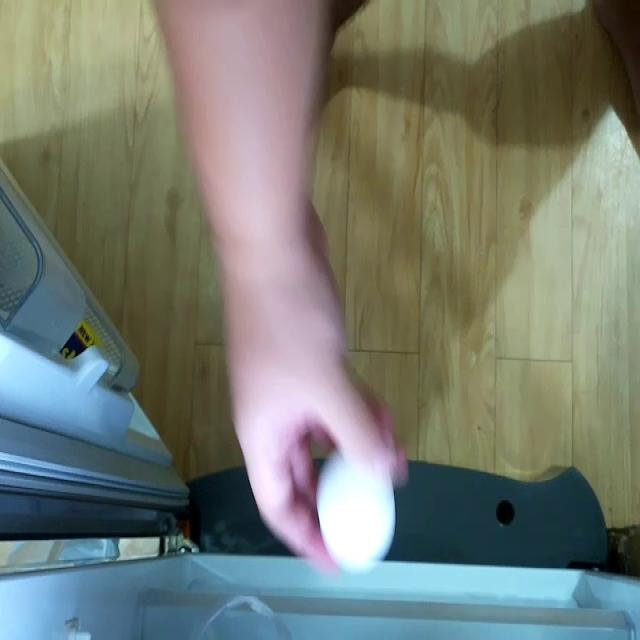egg: (317, 443, 397, 569)
